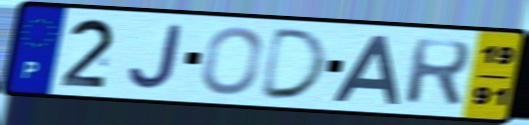2: (60, 16, 116, 90)
A: (329, 32, 403, 107)
D: (256, 26, 331, 102)
J: (125, 22, 187, 92)
O: (198, 25, 265, 98)
R: (401, 37, 474, 110)
